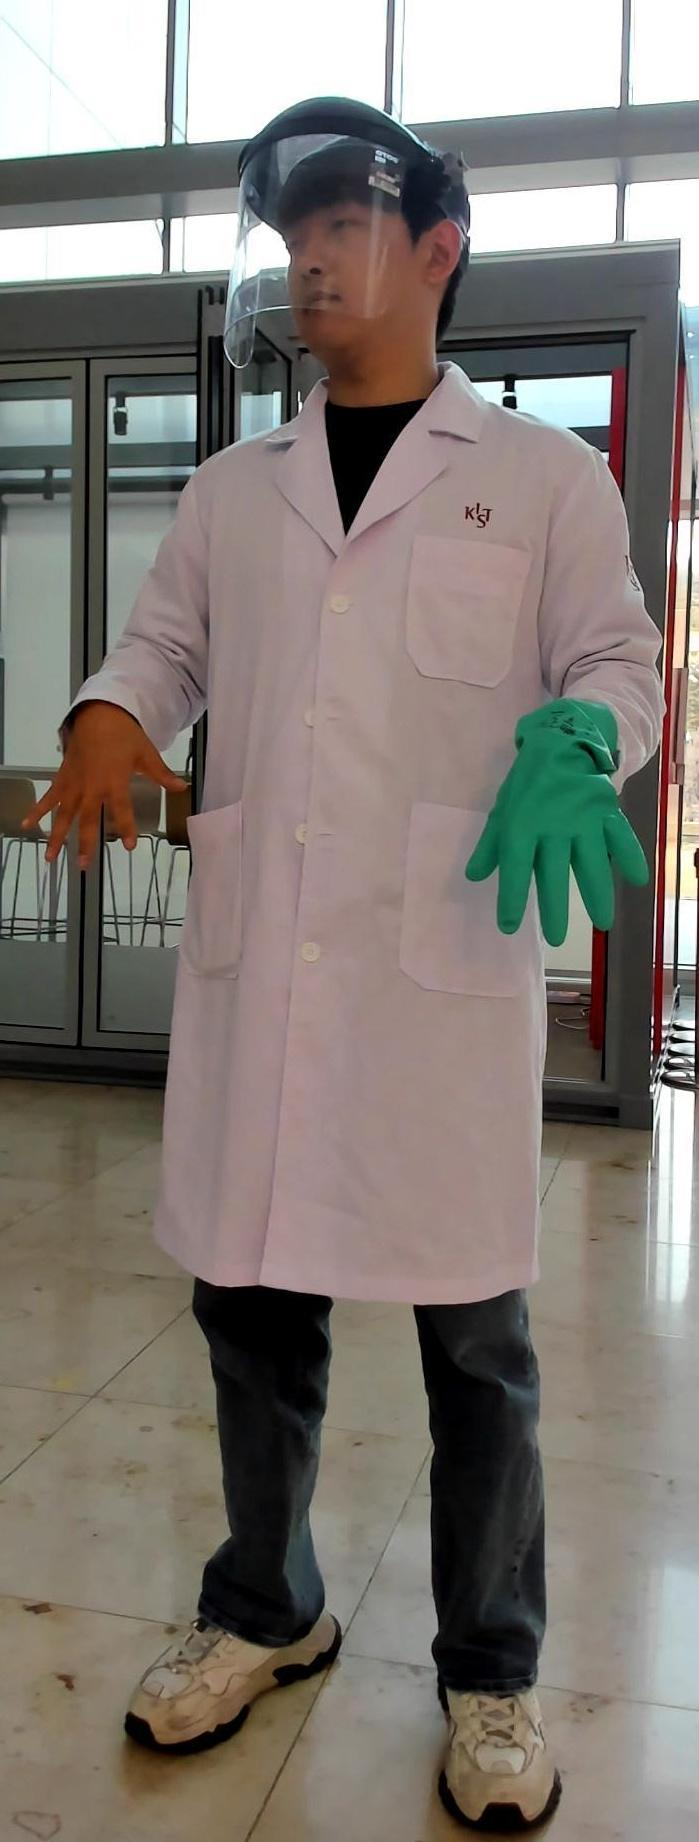lab_coat: (170, 453, 485, 1284)
